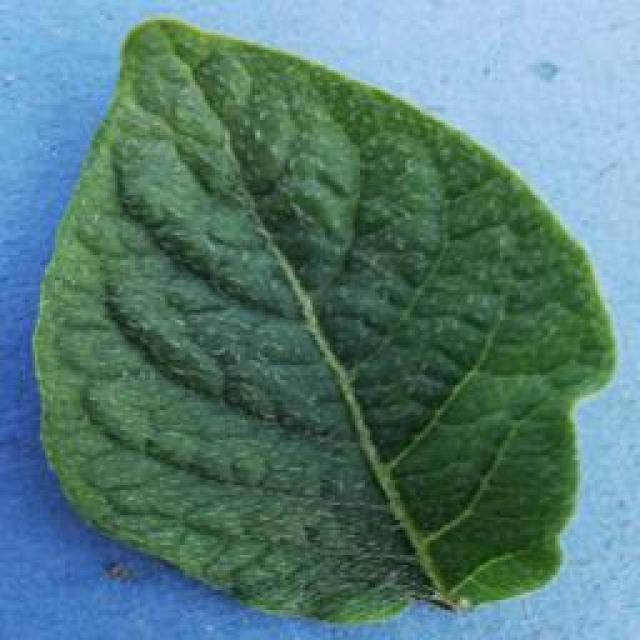Potato_Healthy: (33, 15, 608, 618)
